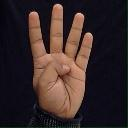hand: (27, 3, 93, 120)
